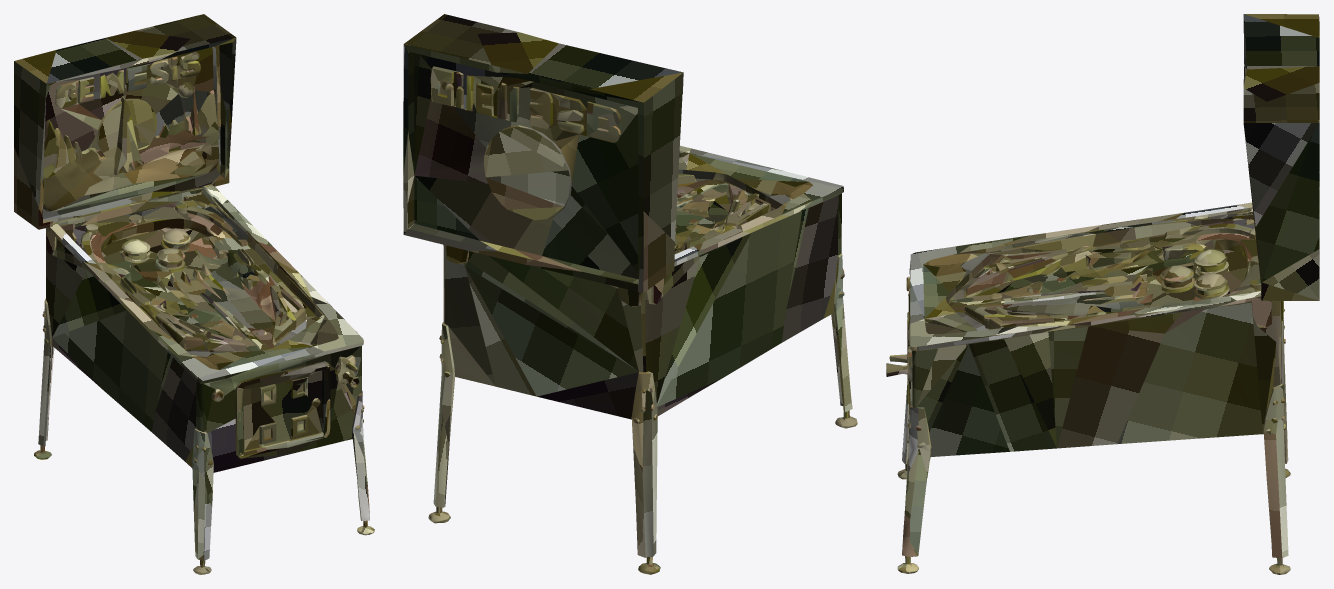
Rendered from pinball2.glb.
3 renders of one model, left to right at view 1: azimuth 30°, elevation 25°; view 2: azimuth 150°, elevation 25°; view 3: azimuth 270°, elevation 25°, orthographic. The views are drawn at different scales.
Parts seen in each view (by area): view 1: Mesh_0; view 2: Mesh_0; view 3: Mesh_0.
Boxes of the visible parts, left/top/right/bottom form: Mesh_0: left=14, top=14, right=374, bottom=574; Mesh_0: left=403, top=14, right=857, bottom=574; Mesh_0: left=886, top=14, right=1319, bottom=574.
Bounding box in the file's own units: 0.978 × 1.9 × 1.64.
Materials: 1 (1 with a texture image).
